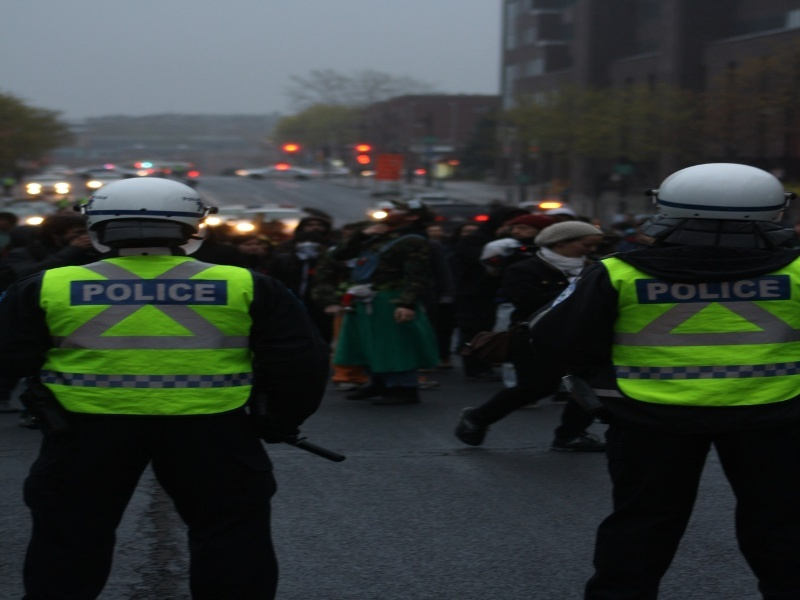Baret: (658, 161, 787, 225), (86, 177, 205, 232)
